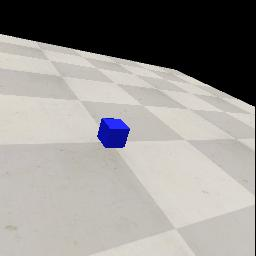box: (97, 118, 130, 148)
